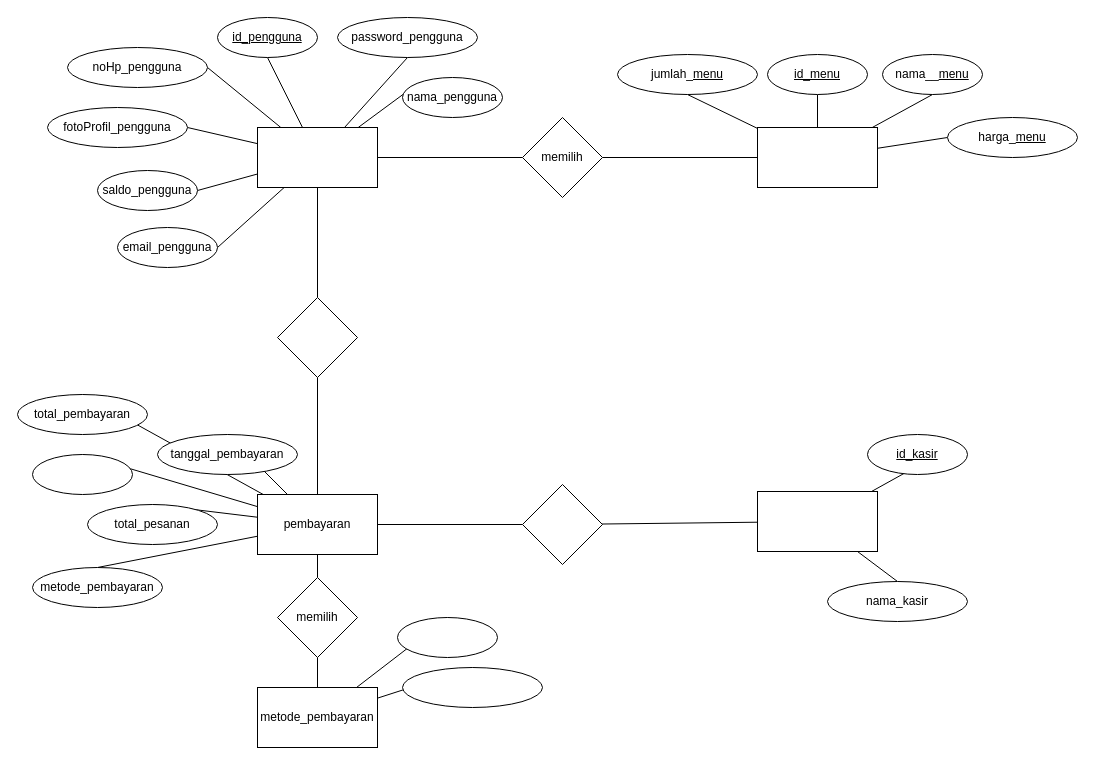
Image size: 1095x765. Some labels were removed from this diagram. Here are the shapes that lost their labels. From the top down, the centre of each, then its label:
At point (317, 157): "pengguna".
At point (817, 157): "menu".
At point (317, 337): "melakukan".
At point (82, 474): "id_pembayaran".
At point (562, 524): "memproses".
At point (817, 521): "kasir".
At point (447, 637): "nomor_metode".
At point (472, 687): "nama_metode".
